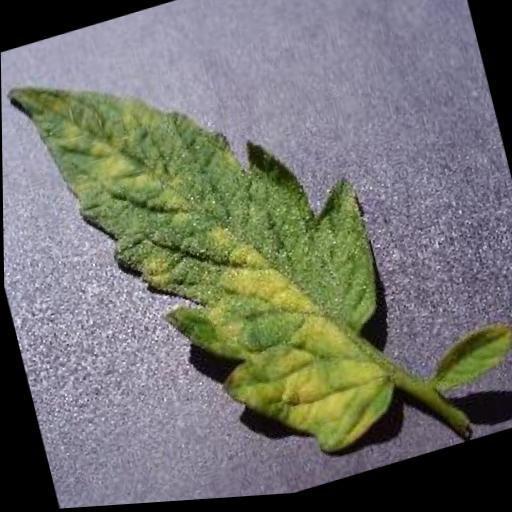Leaf Mold: (2, 0, 418, 512)
